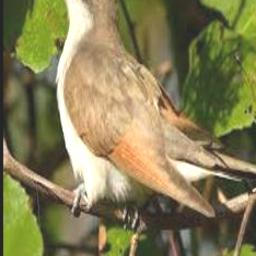Cuckoo: (44, 0, 219, 218)
